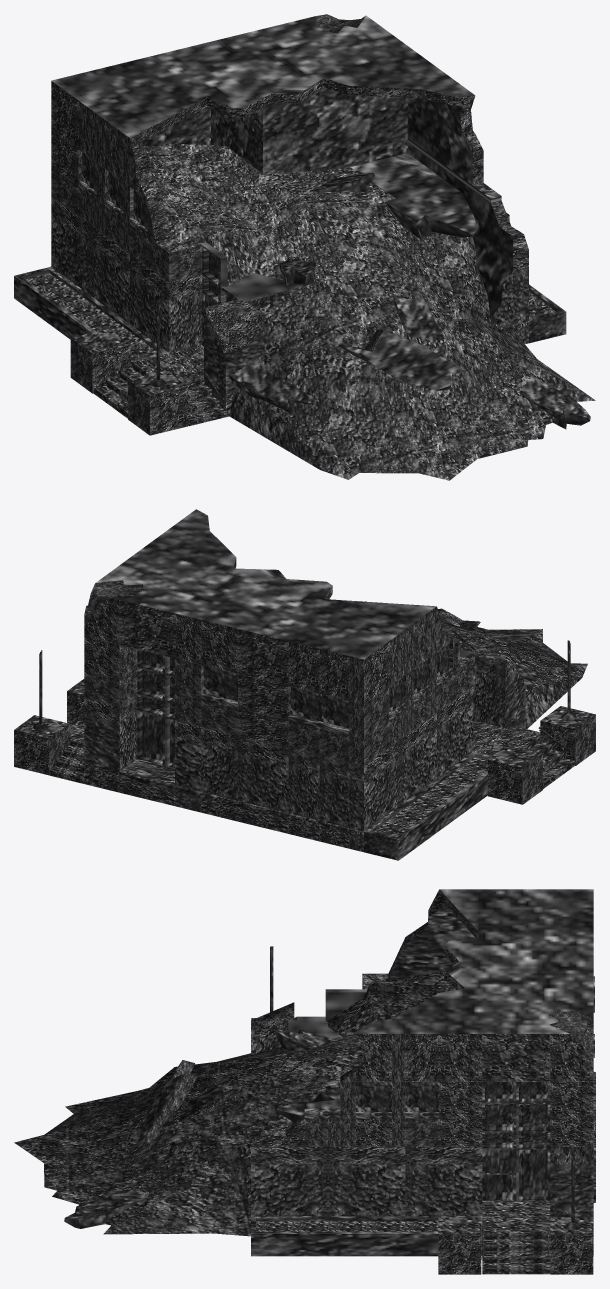
File: collapsed_police_station.glb
The picture shows the model from 3 angles, top to bottom: view 1: azimuth 30°, elevation 25°; view 2: azimuth 150°, elevation 25°; view 3: azimuth 270°, elevation 25°; orthographic projection. The views are drawn at different scales.
Parts seen in each view (by area): view 1: Destroyed_PoliceStation; view 2: Destroyed_PoliceStation; view 3: Destroyed_PoliceStation.
Part boxes in pixels (<box>): Destroyed_PoliceStation: <box>14,14,595,480</box>; Destroyed_PoliceStation: <box>14,509,595,860</box>; Destroyed_PoliceStation: <box>14,889,595,1274</box>.
Size of the model in its own units: 19.59 by 8.89 by 22.15.
3 materials, 3 textured.
